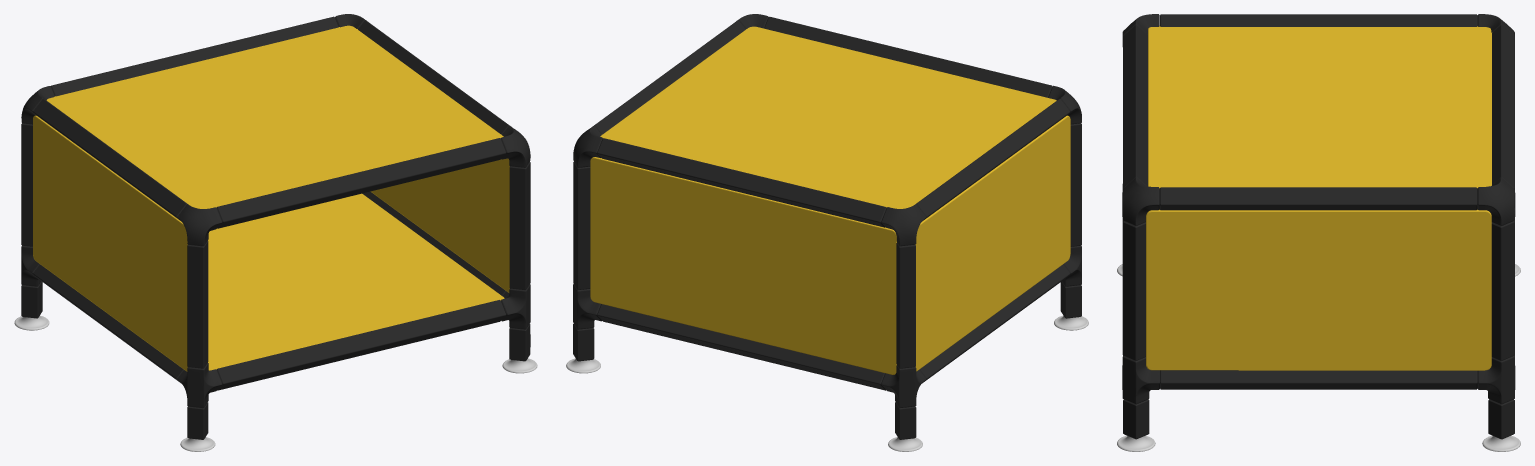
The picture shows the model from 3 angles, left to right: view 1: azimuth 30°, elevation 25°; view 2: azimuth 150°, elevation 25°; view 3: azimuth 270°, elevation 25°; orthographic projection. The views are drawn at different scales.
Visible parts, largest first — view 1: 374x329x154; view 2: 374x329x154; view 3: 374x329x154.
Part boxes in pixels (box(x1,y1,x2,y2)): 374x329x154: box(14, 14, 537, 451); 374x329x154: box(566, 14, 1088, 451); 374x329x154: box(1117, 14, 1520, 451).
Bounding box in the file's own units: 0.4639 × 0.2933 × 0.4181.
